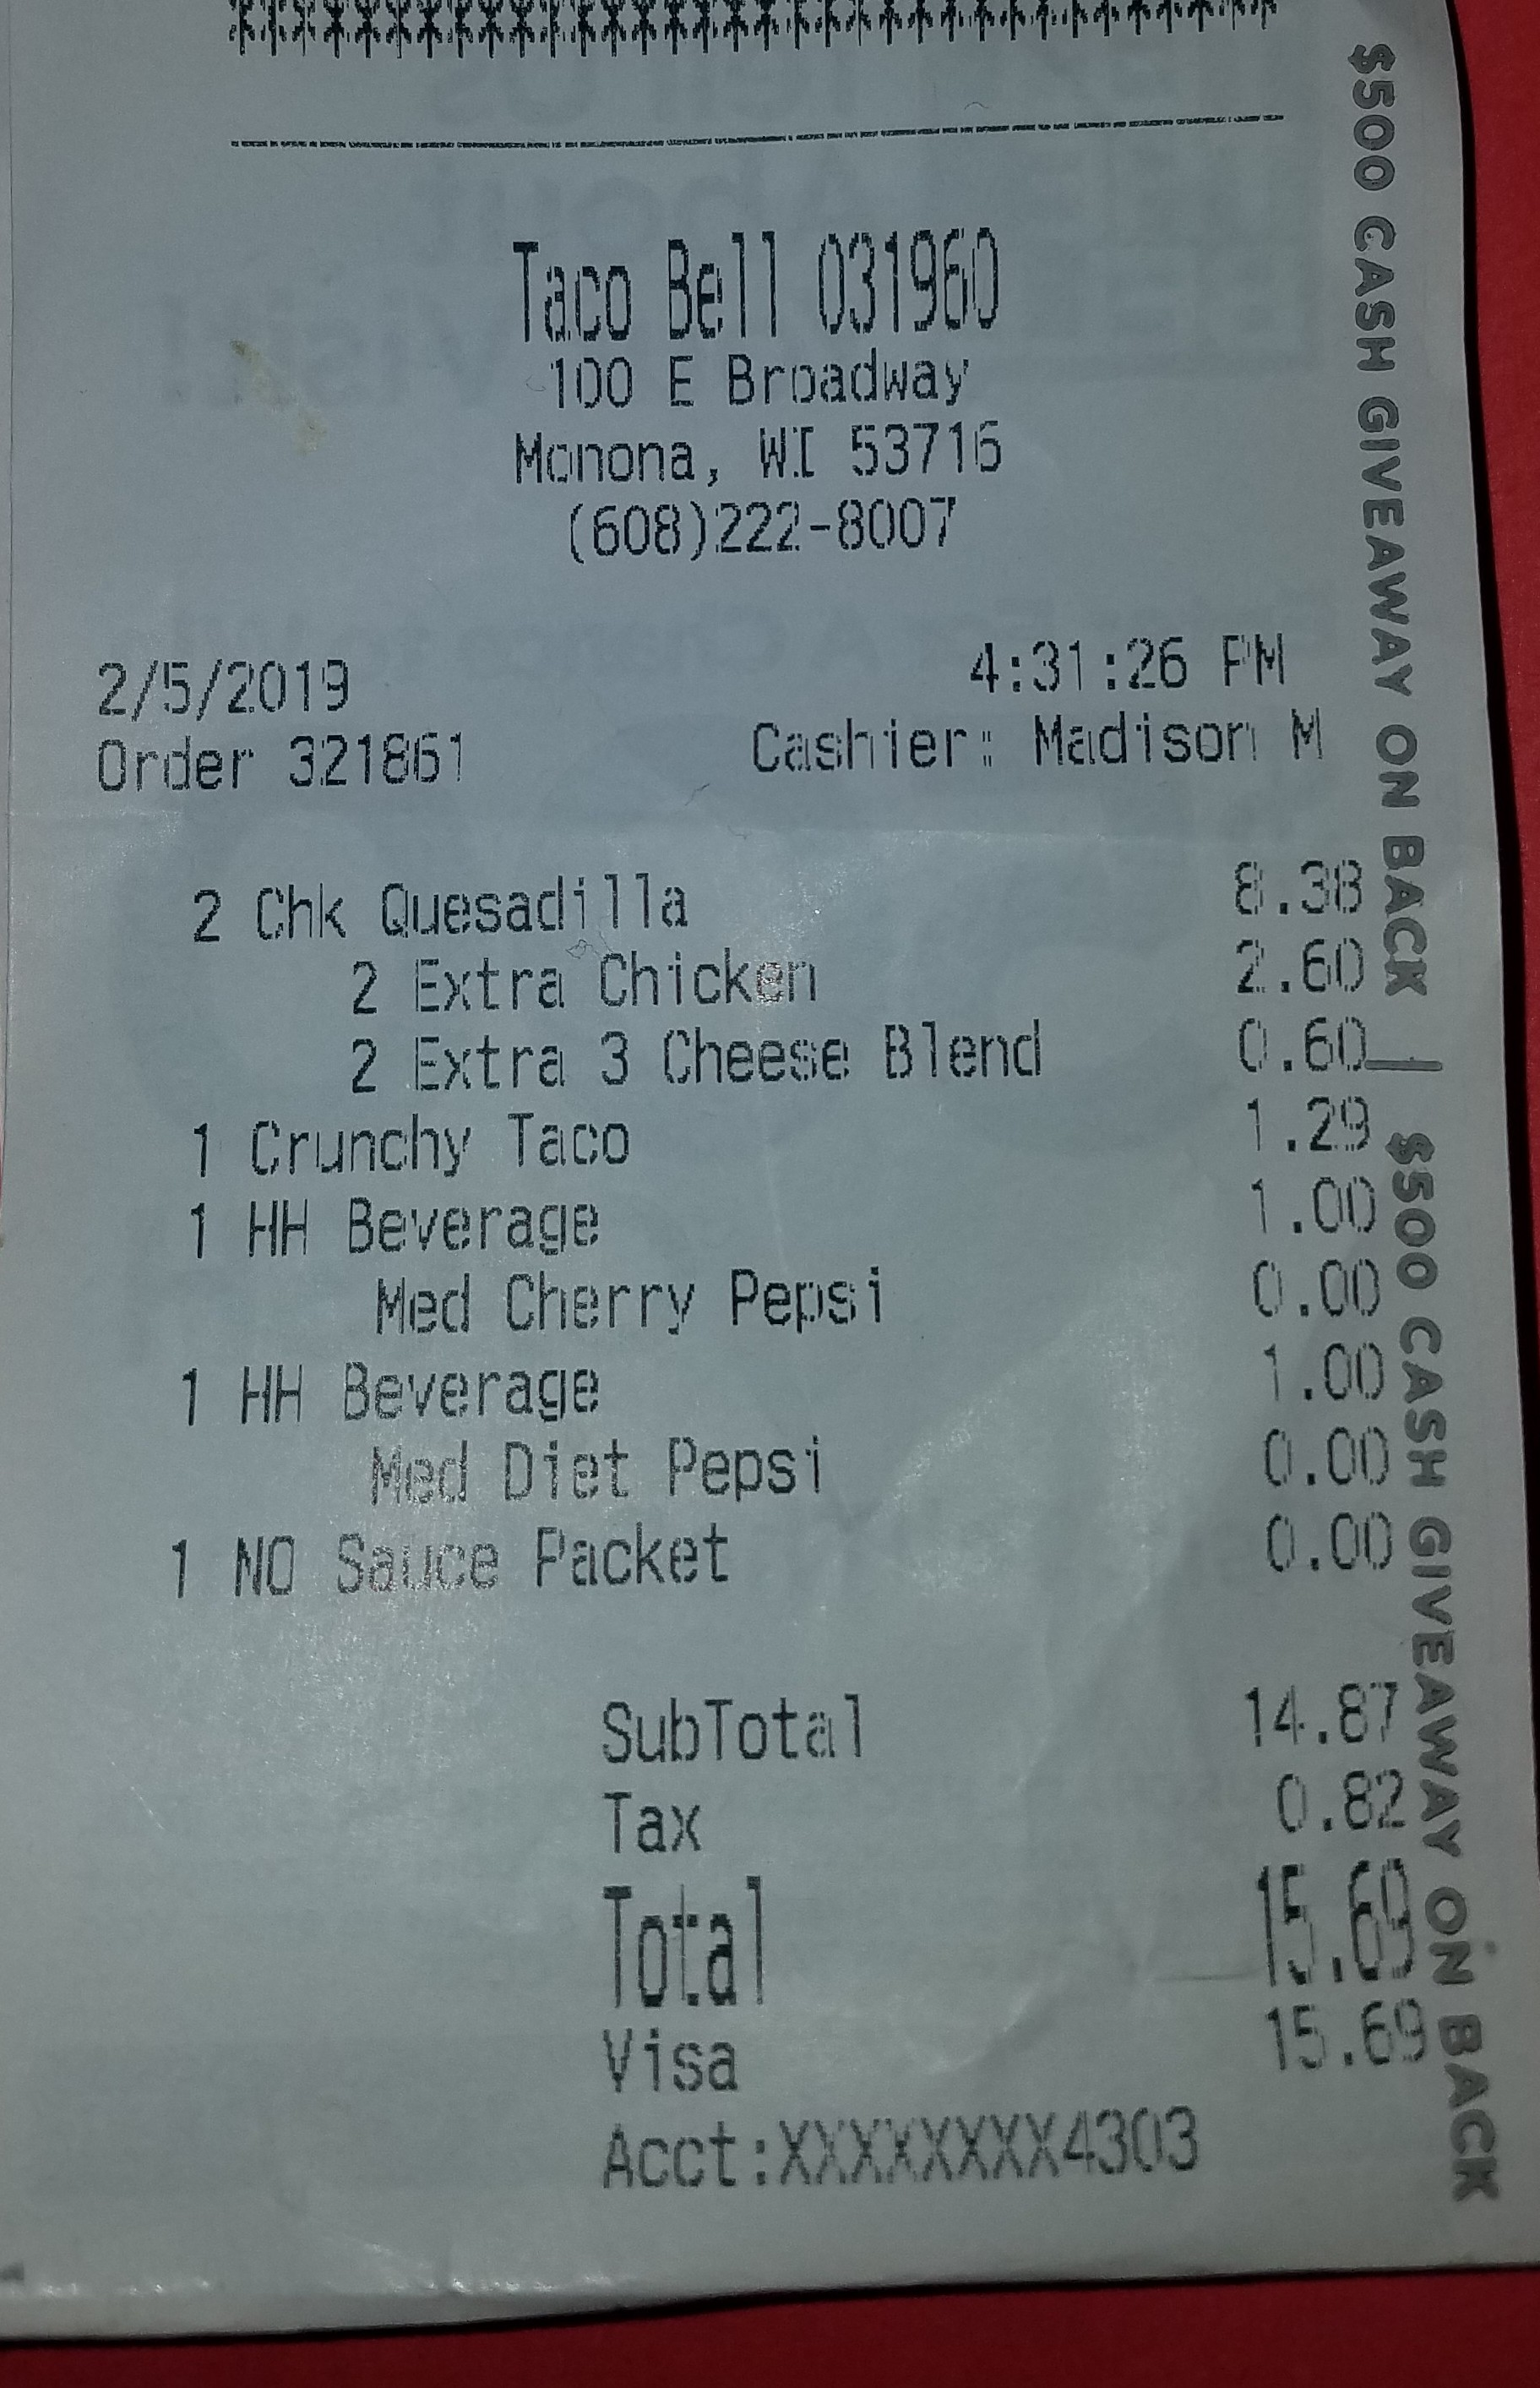Taco Bell: (491, 218, 807, 357)
